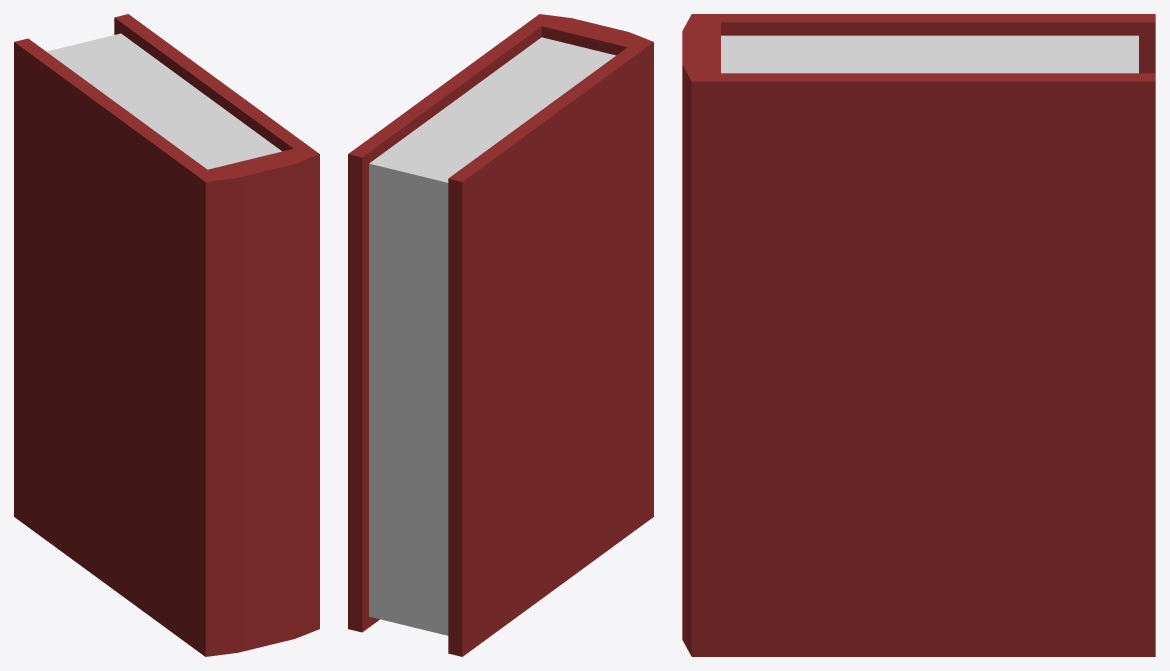
The model's file is book3.fbx.
3 views of the same model, side by side, from view 1: azimuth 30°, elevation 25°; view 2: azimuth 150°, elevation 25°; view 3: azimuth 270°, elevation 25° (orthographic). The views are drawn at different scales.
Visible parts, largest first — view 1: book3; view 2: book3; view 3: book3.
Boxes of the visible parts, <box> form: book3: <box>14,14,319,656</box>; book3: <box>348,14,653,656</box>; book3: <box>682,14,1155,656</box>.
Size of the model in its own units: 9.65 by 38.31 by 28.55.
